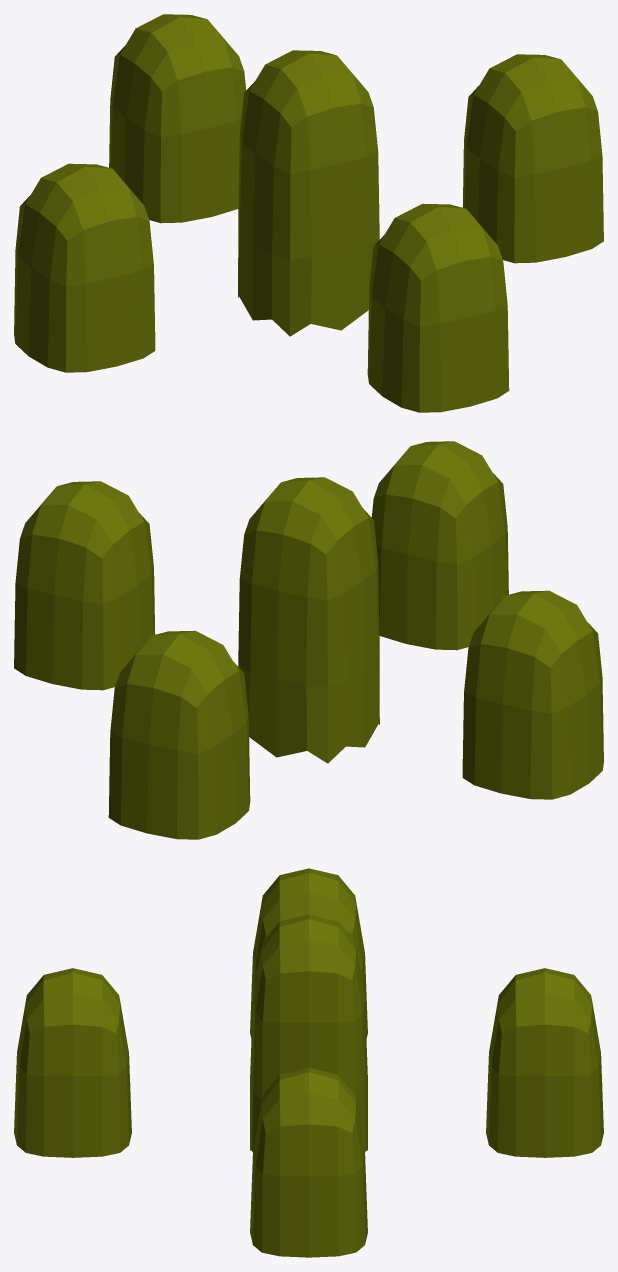
File: grass-autumn.gltf
3 renders of one model, top to bottom at view 1: azimuth 30°, elevation 25°; view 2: azimuth 150°, elevation 25°; view 3: azimuth 270°, elevation 25°, orthographic. The views are drawn at different scales.
Visible parts, largest first — view 1: grass; view 2: grass; view 3: grass.
Boxes of the visible parts, <box> form: grass: <box>14,14,603,412</box>; grass: <box>14,441,603,839</box>; grass: <box>14,868,603,1257</box>.
Size of the model in its own units: 0.3125 by 0.135 by 0.3125.
1 material, 1 textured.
